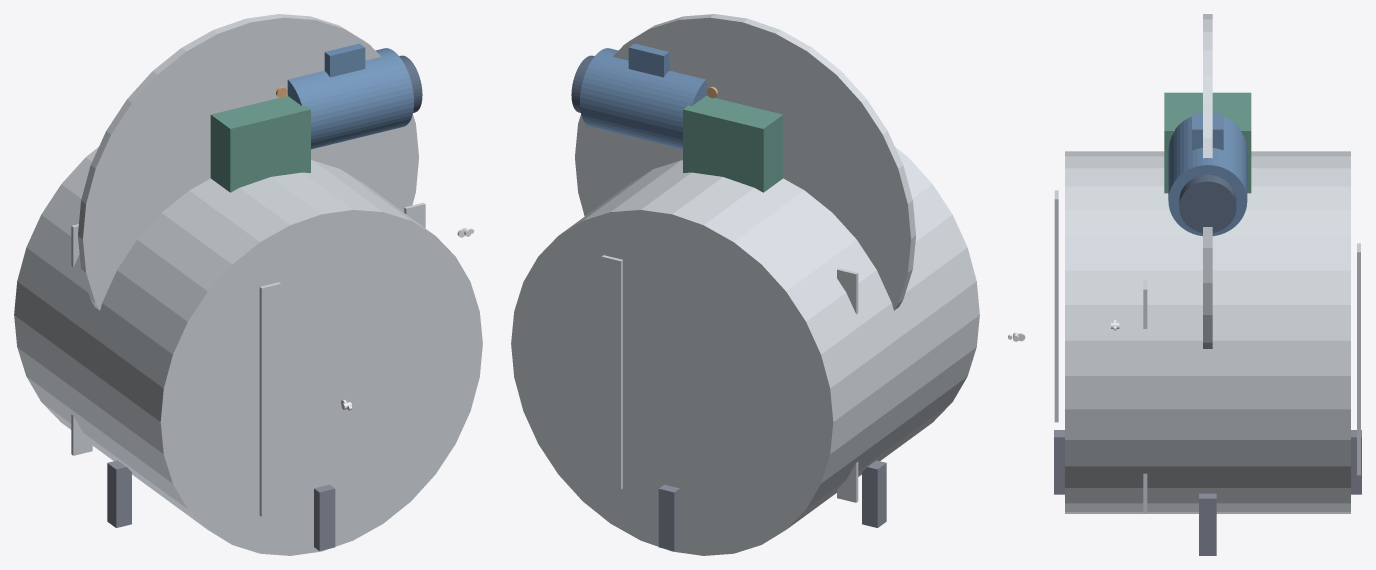
The model's file is mixer.glb.
3 renders of one model, left to right at view 1: azimuth 30°, elevation 25°; view 2: azimuth 150°, elevation 25°; view 3: azimuth 270°, elevation 25°, orthographic. The views are drawn at different scales.
Visible parts, largest first — view 1: CASING_TANK_001, CASING_TANK_002, CASING_MOTORBODY_015, CASING_GEARBOX_012, CASING_BAFFLE_008, PART_005, PART_004, CASING_TERMBOX_017, CASING_BAFFLE_009; view 2: CASING_TANK_001, CASING_TANK_002, CASING_MOTORBODY_015, CASING_GEARBOX_012, CASING_BAFFLE_010, PART_005, PART_006, CASING_BAFFLE_009, CASING_TERMBOX_017; view 3: CASING_TANK_001, CASING_MOTORBODY_015, CASING_GEARBOX_012, CASING_COWL_016, CASING_TANK_002, CASING_BAFFLE_008, PART_003, CASING_BAFFLE_010, CASING_TERMBOX_017, PART_004, PART_006, CASING_BAFFLE_007.
Part boxes in pixels (x1,y1,x2,y2): CASING_TANK_001: [14, 147, 482, 555]; CASING_TANK_002: [78, 14, 418, 310]; CASING_MOTORBODY_015: [287, 48, 413, 149]; CASING_GEARBOX_012: [210, 96, 310, 192]; CASING_BAFFLE_008: [259, 282, 280, 516]; PART_005: [107, 460, 131, 527]; PART_004: [314, 484, 335, 550]; CASING_TERMBOX_017: [324, 43, 365, 77]; CASING_BAFFLE_009: [71, 224, 92, 455]; CASING_TANK_001: [511, 147, 979, 555]; CASING_TANK_002: [575, 14, 915, 310]; CASING_MOTORBODY_015: [580, 48, 706, 149]; CASING_GEARBOX_012: [683, 96, 783, 192]; CASING_BAFFLE_010: [601, 255, 622, 489]; PART_005: [862, 460, 886, 527]; PART_006: [658, 484, 679, 550]; CASING_BAFFLE_009: [837, 268, 858, 502]; CASING_TERMBOX_017: [628, 43, 669, 77]; CASING_TANK_001: [1065, 151, 1350, 513]; CASING_MOTORBODY_015: [1168, 116, 1247, 236]; CASING_GEARBOX_012: [1164, 92, 1251, 193]; CASING_COWL_016: [1179, 175, 1236, 232]; CASING_TANK_002: [1203, 14, 1212, 348]; CASING_BAFFLE_008: [1054, 190, 1058, 422]; PART_003: [1199, 493, 1216, 555]; CASING_BAFFLE_010: [1357, 243, 1360, 475]; CASING_TERMBOX_017: [1192, 113, 1223, 150]; PART_004: [1054, 430, 1064, 494]; PART_006: [1351, 430, 1361, 494]; CASING_BAFFLE_007: [1143, 280, 1147, 512].
Size of the model in its own units: 1.97 by 2.6 by 1.79.
